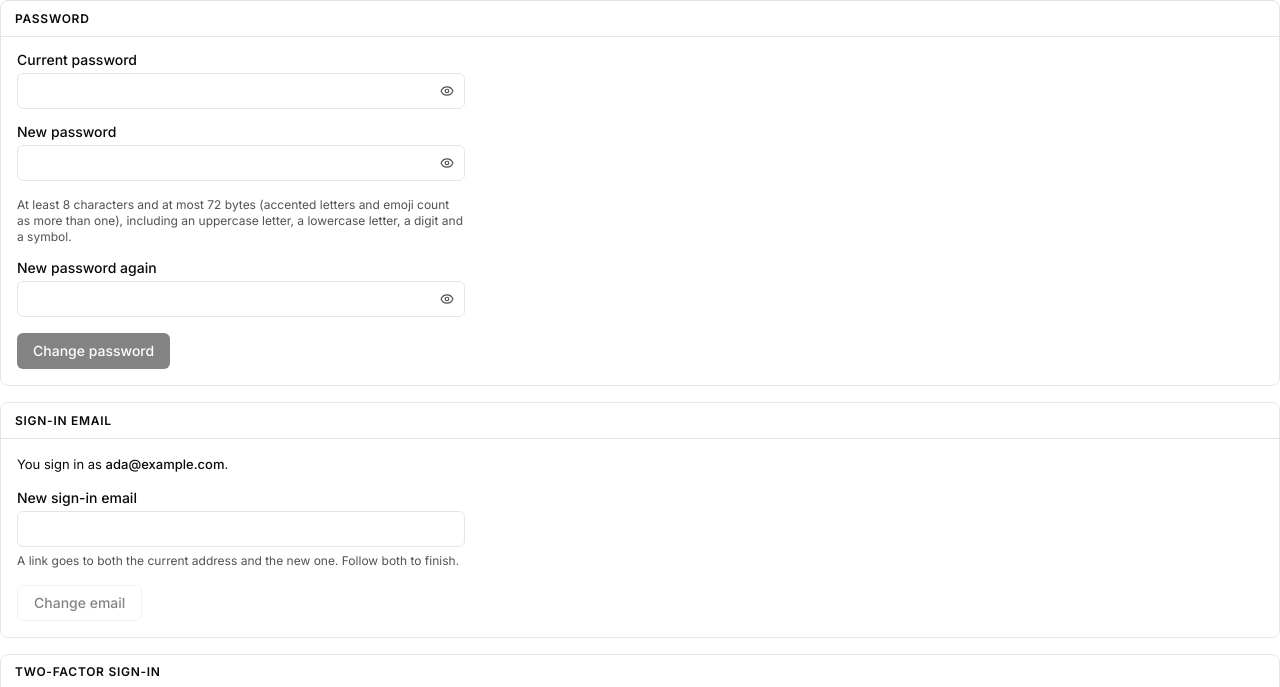
it: Password change › when Auth asks for a recent sign-in, it emails a code and sends it as the nonce
In the password field labelled "Current password": (241, 91) [17,73,465,109], type "Old-pass1!"
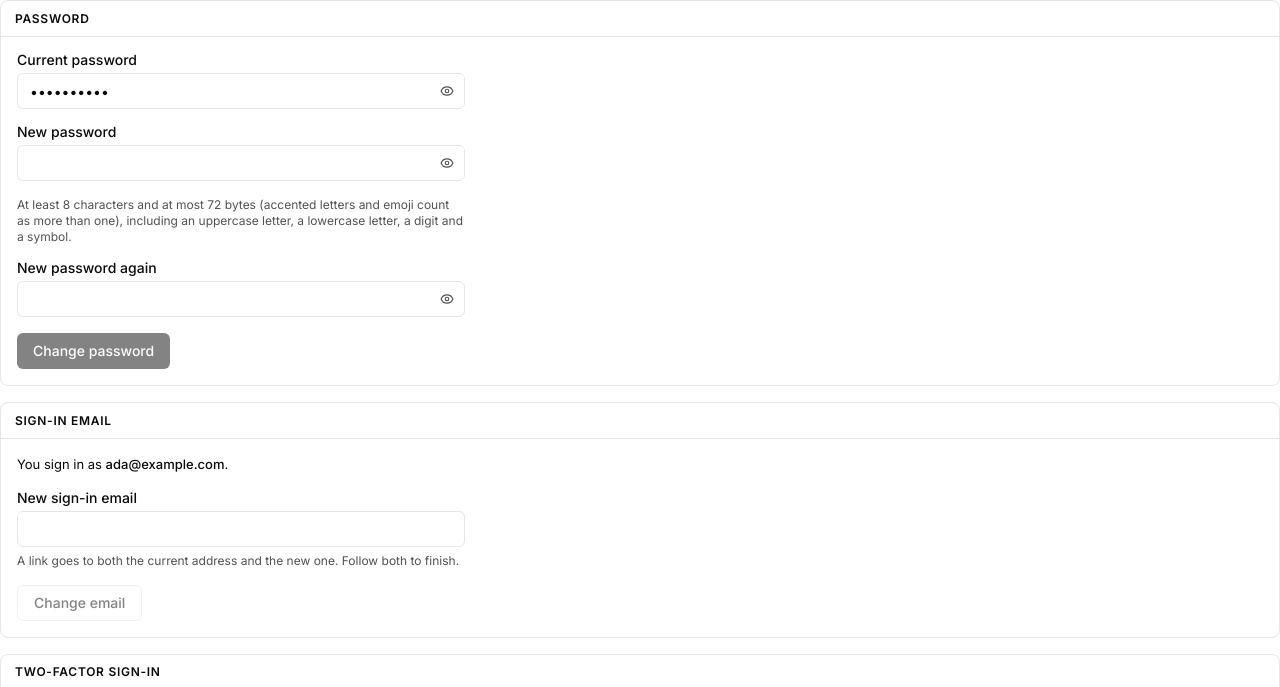
In the password field labelled "New password": (241, 163) [17,145,465,181], type "New-pass2!"
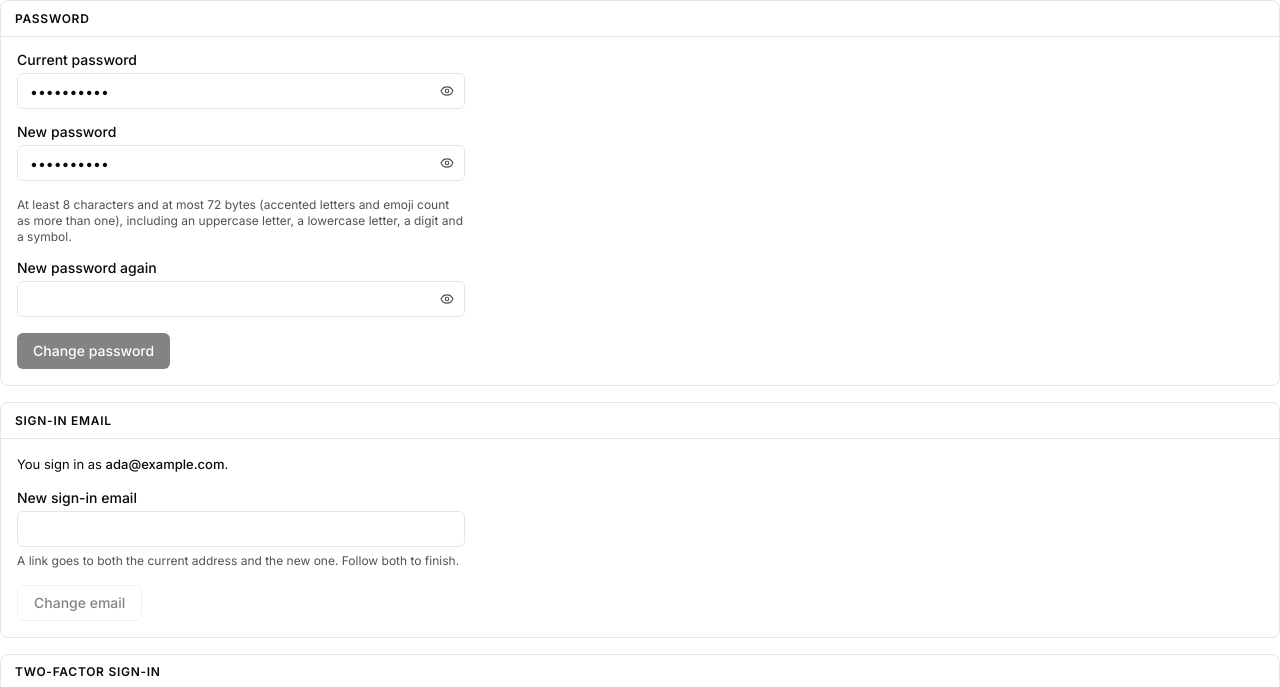
In the password field labelled "New password again": (241, 299) [17,281,465,317], type "New-pass2!"
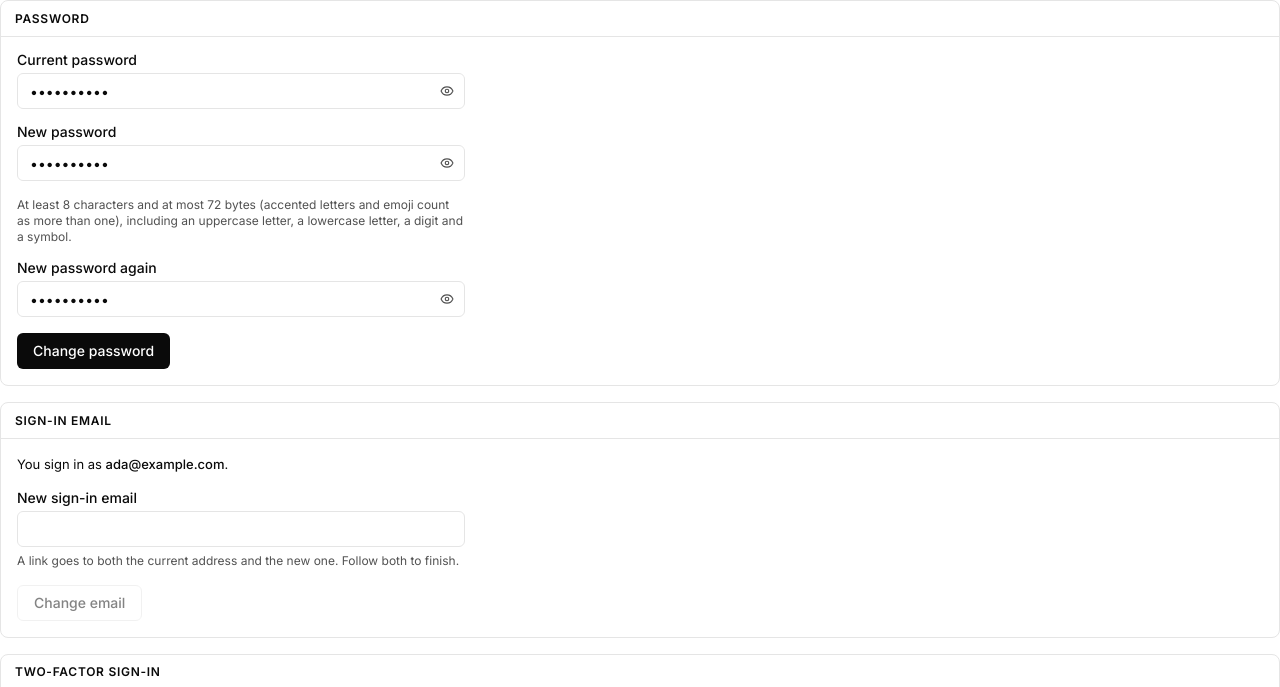
Click the button "Change password": (94, 351) [17,333,170,369]
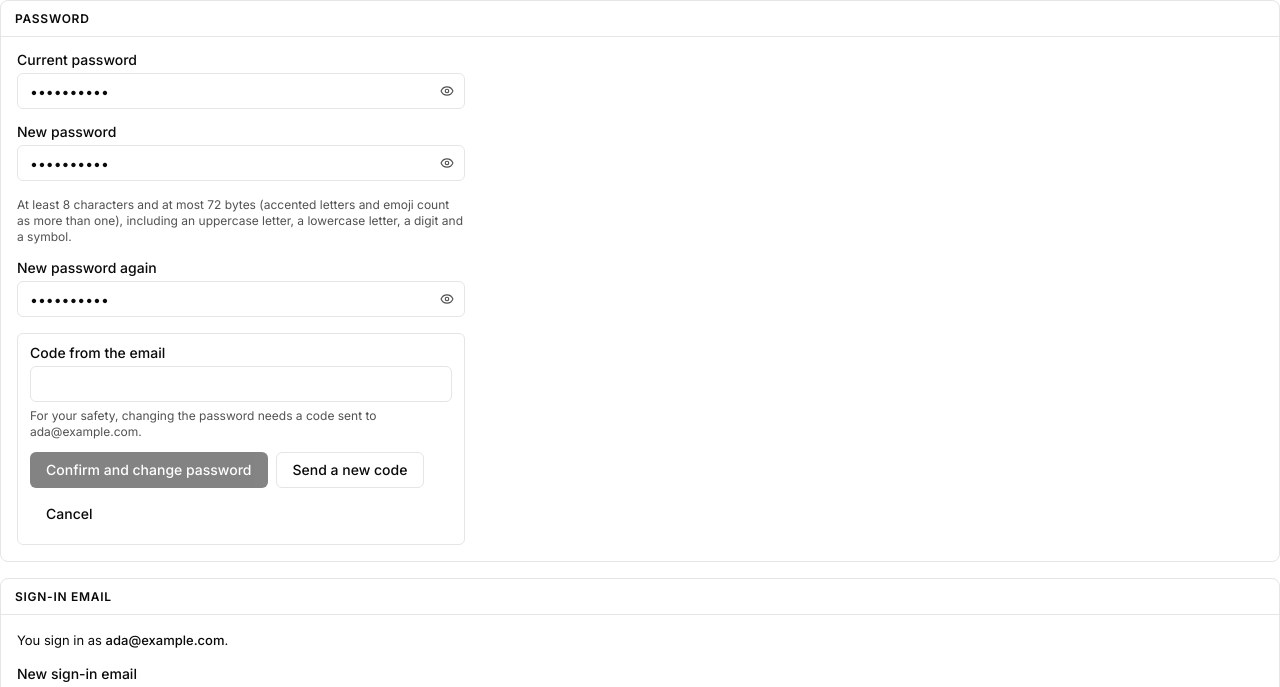
In the field labelled "Code from the email": (241, 384) [30,366,452,402], type "483920"
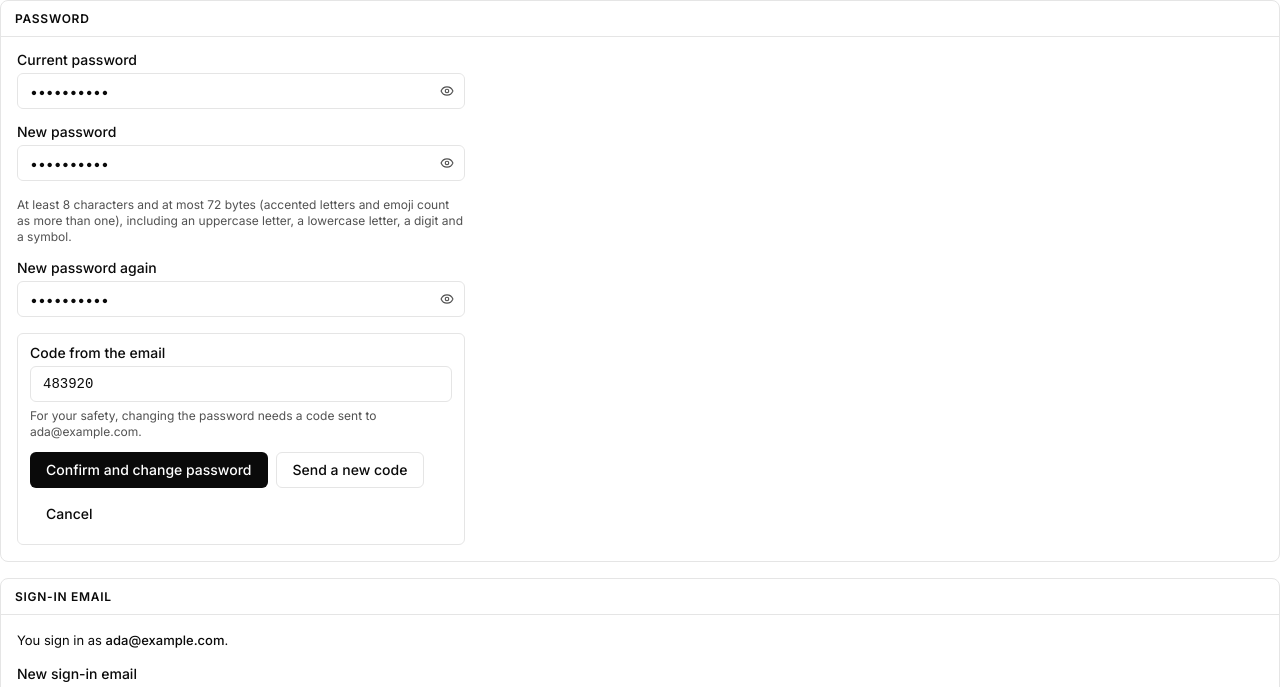
Click the button "Confirm and change password": (149, 470) [30,452,268,488]
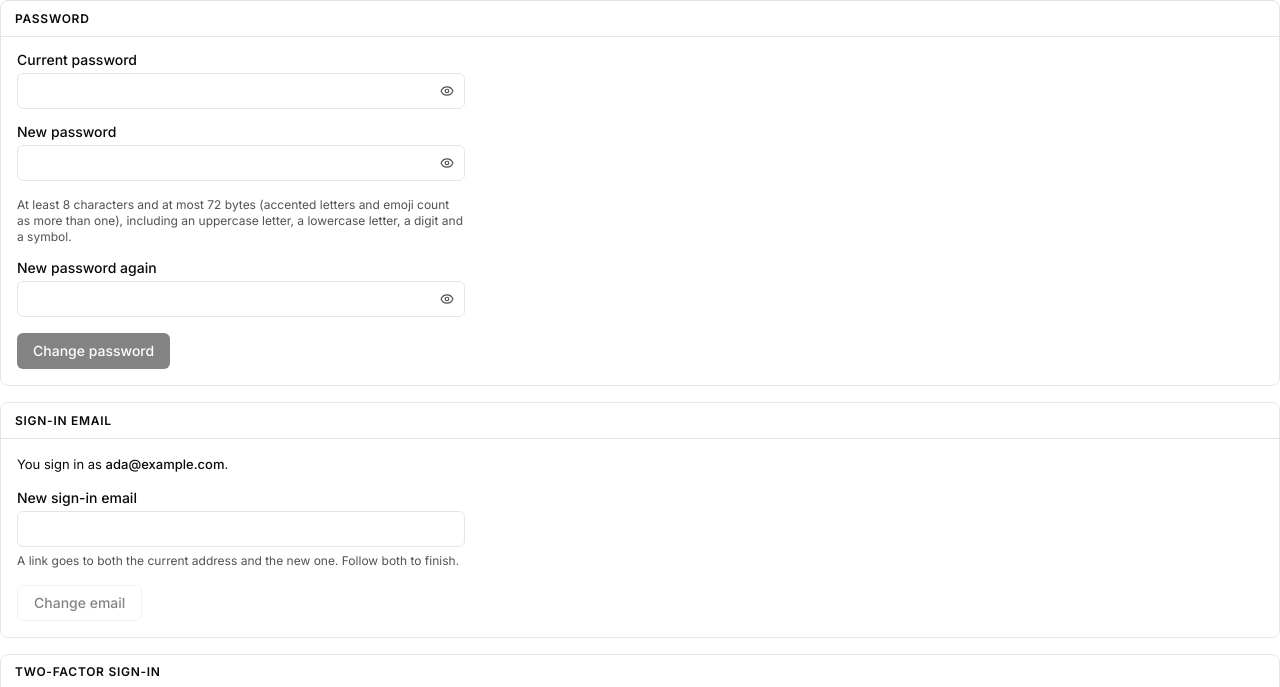
Result: the label labelled "Code from the email" is gone
